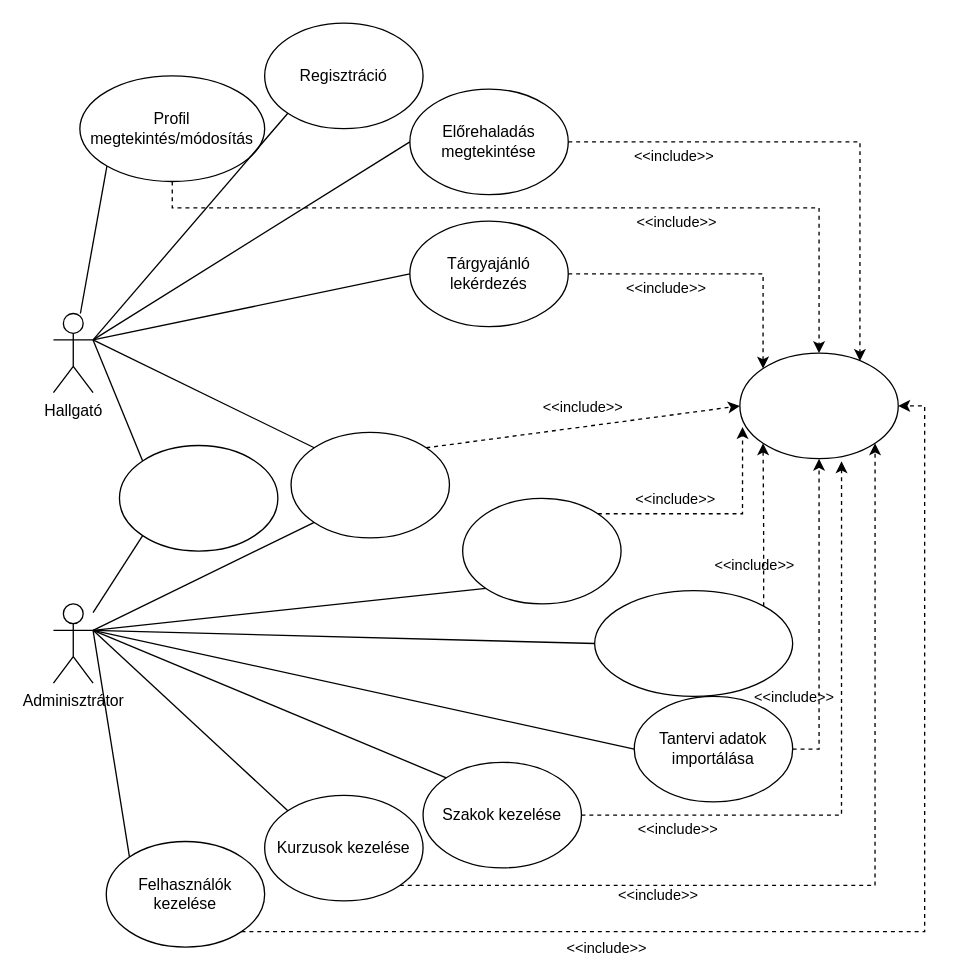
The diagram is 958 pixels wide and 979 high, and some of its shapes have lost their labels. The centre of each missing label's shape, as x and y in pixels:
Bejelentkezés: pixel 198 497
Chat használat: pixel 369 484
JWT és jogosultség ellenőrzés: pixel 818 405
Progress import-export: pixel 541 550
Riportok: pixel 693 642
